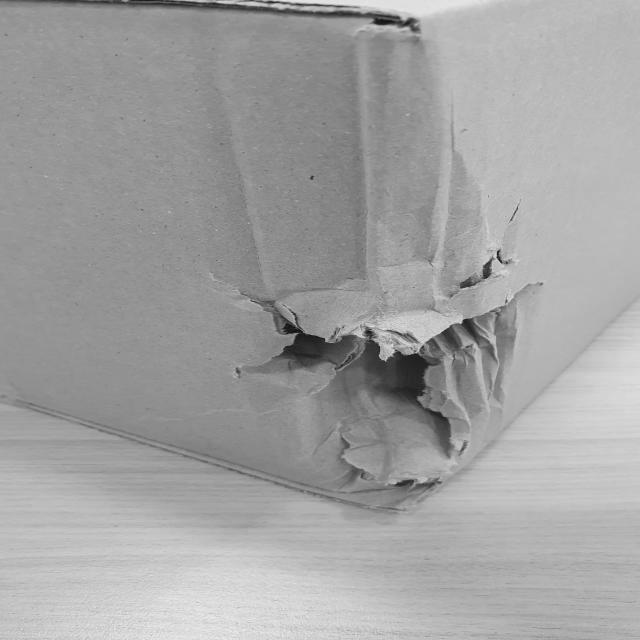hole: (236, 232, 532, 461)
